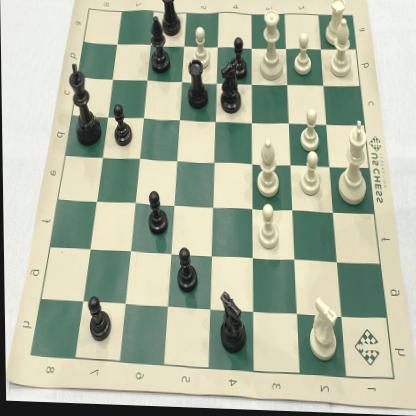black-bishop: (148, 15, 173, 79)
black-king: (66, 61, 103, 152)
black-knight: (214, 286, 248, 360), (216, 60, 242, 118)
black-pawn: (172, 244, 200, 300), (86, 294, 114, 347), (146, 190, 170, 242), (226, 36, 250, 83), (110, 102, 133, 150)
black-rook: (181, 58, 210, 113), (156, 0, 184, 42)
white-bishop: (254, 136, 281, 201), (328, 18, 354, 80)
white-king: (334, 117, 374, 209)
white-knight: (304, 293, 340, 366)
white-pawn: (254, 200, 282, 254), (298, 149, 326, 199), (290, 30, 316, 80), (188, 24, 212, 73), (298, 106, 322, 154)
white-queen: (257, 5, 287, 86)
white-rook: (321, 0, 351, 49)
